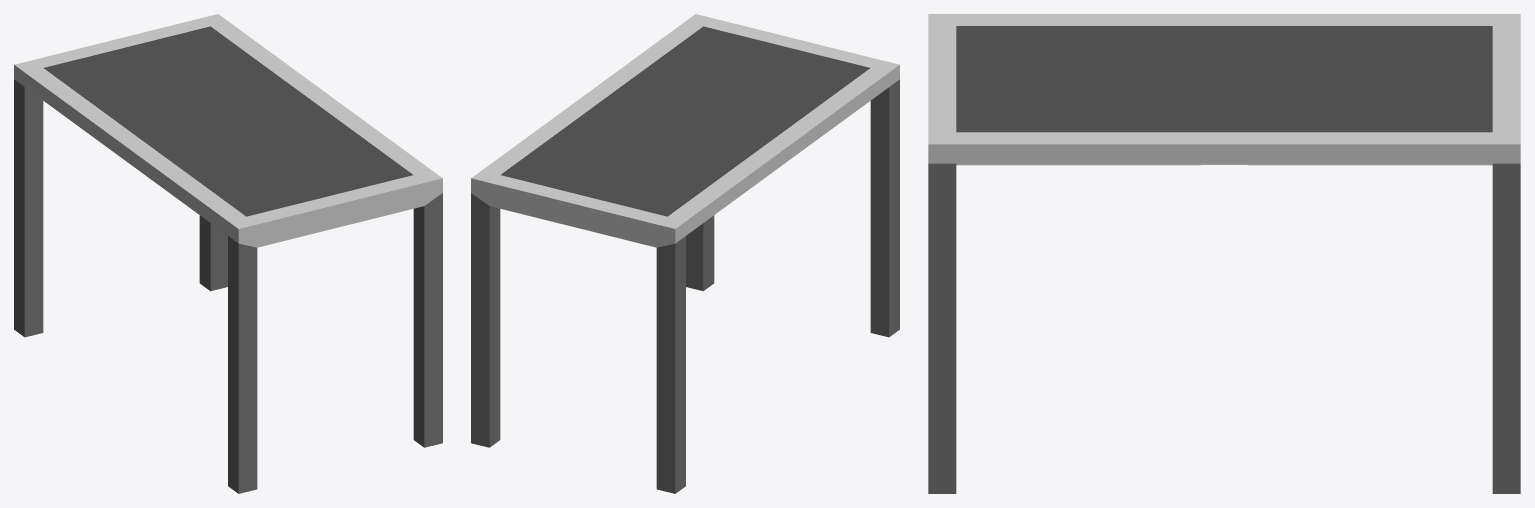
File: Mesa Plomo2.fbx
3 views of the same model, side by side, from view 1: azimuth 30°, elevation 25°; view 2: azimuth 150°, elevation 25°; view 3: azimuth 270°, elevation 25° (orthographic). The views are drawn at different scales.
Parts seen in each view (by area): view 1: Cube; view 2: Cube; view 3: Cube.
Boxes of the visible parts, x1,y1,x2,y2 form: Cube: [14, 14, 442, 493]; Cube: [471, 14, 899, 493]; Cube: [928, 14, 1520, 493].
Bounding box in the file's own units: 2204 × 2740 × 4196.
Materials: 1 (1 with a texture image).
